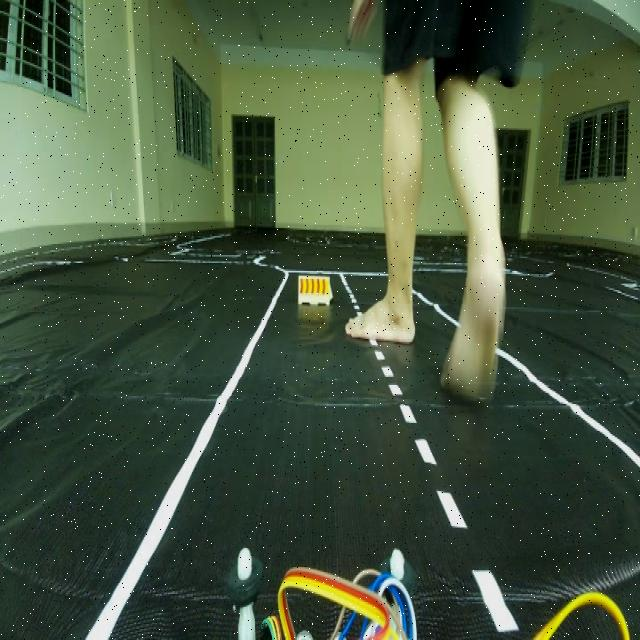roadblock: (292, 268, 338, 312)
